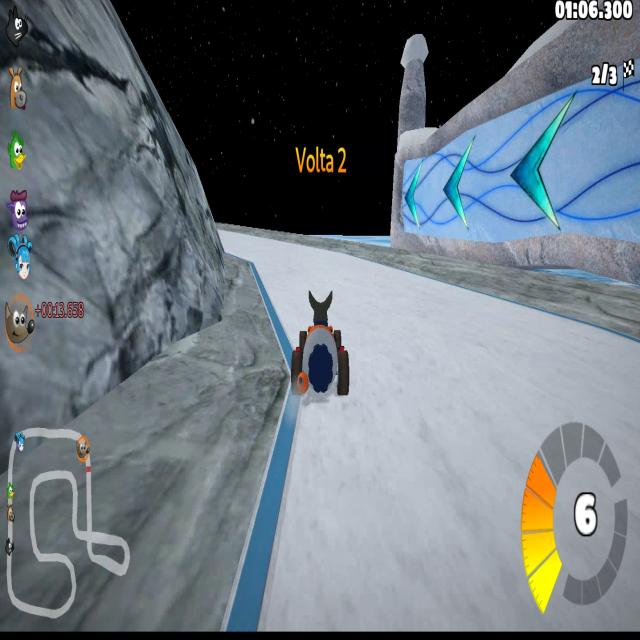player_kart: (289, 289, 350, 402)
track: (302, 410, 640, 631), (350, 306, 638, 414), (290, 242, 364, 284), (222, 227, 288, 261), (352, 276, 410, 308), (412, 278, 480, 304), (266, 260, 286, 317)
